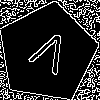V: (22, 28, 74, 84)
